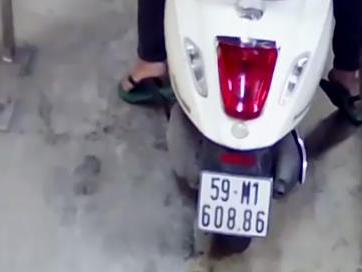num_plate: (197, 168, 273, 238)
